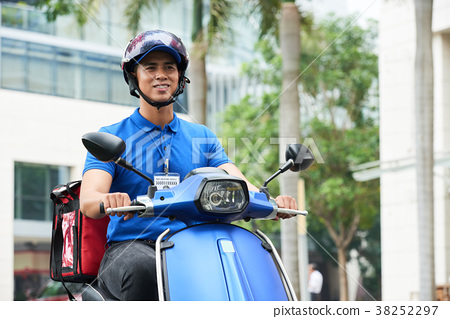helmet: (122, 29, 190, 77)
